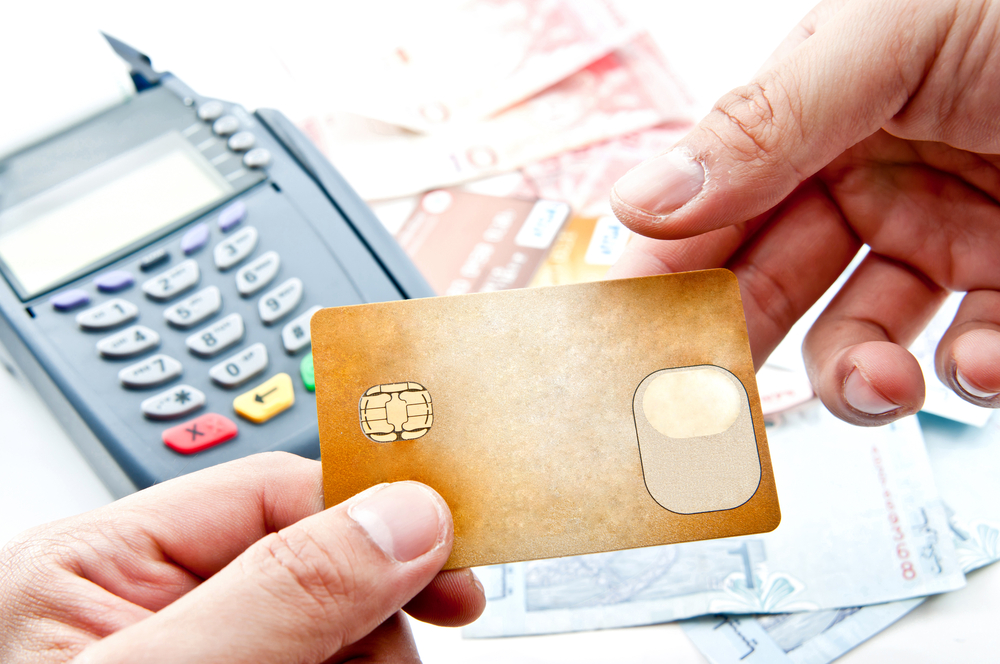tarjeta: (310, 265, 784, 575)
